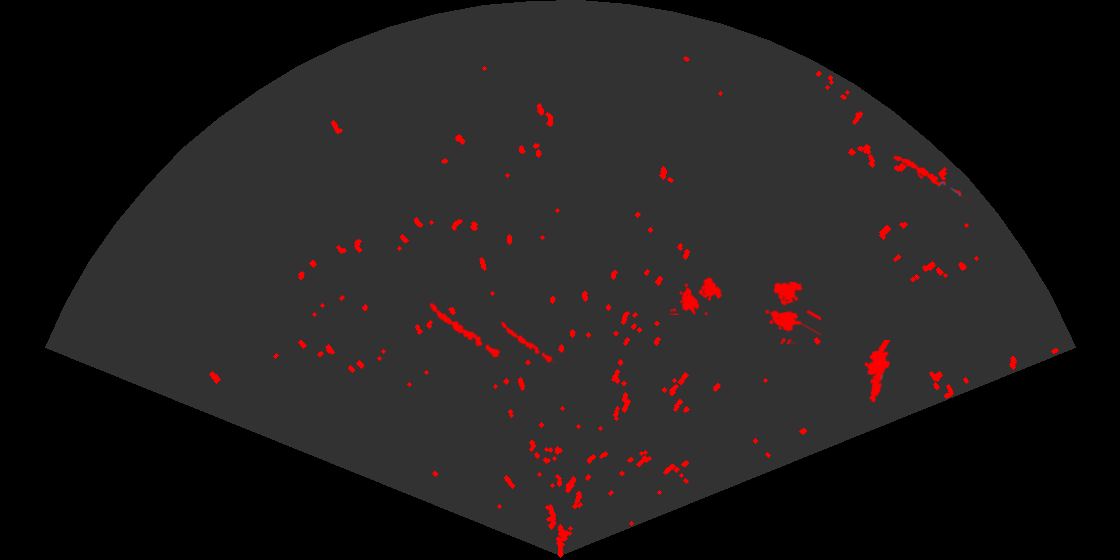cage: (763, 280, 821, 344), (670, 275, 724, 315)
chain: (428, 301, 505, 362), (892, 154, 971, 204), (492, 317, 556, 367)
frogman: (863, 340, 892, 404)
